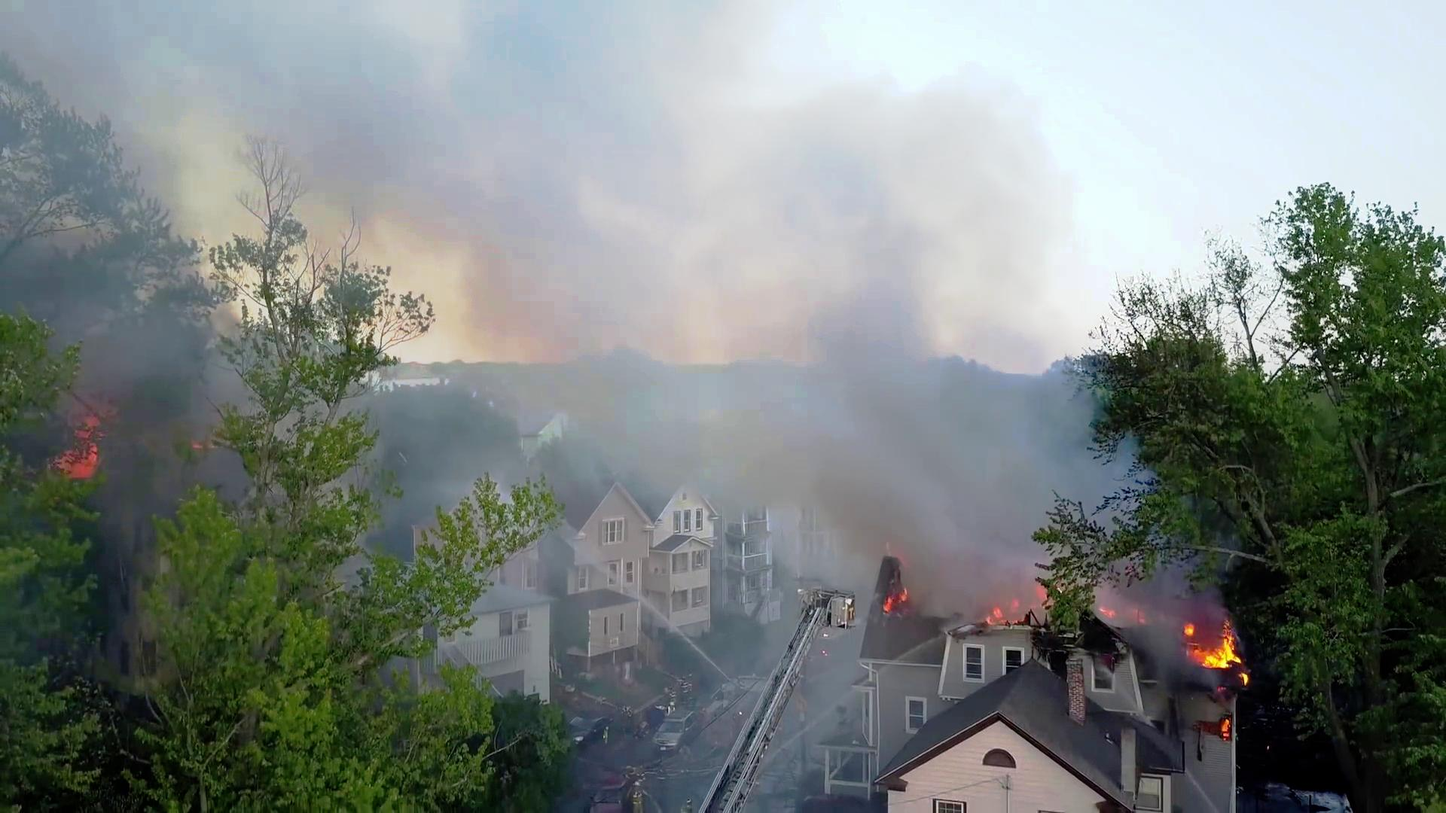fire: (1181, 599, 1236, 672)
